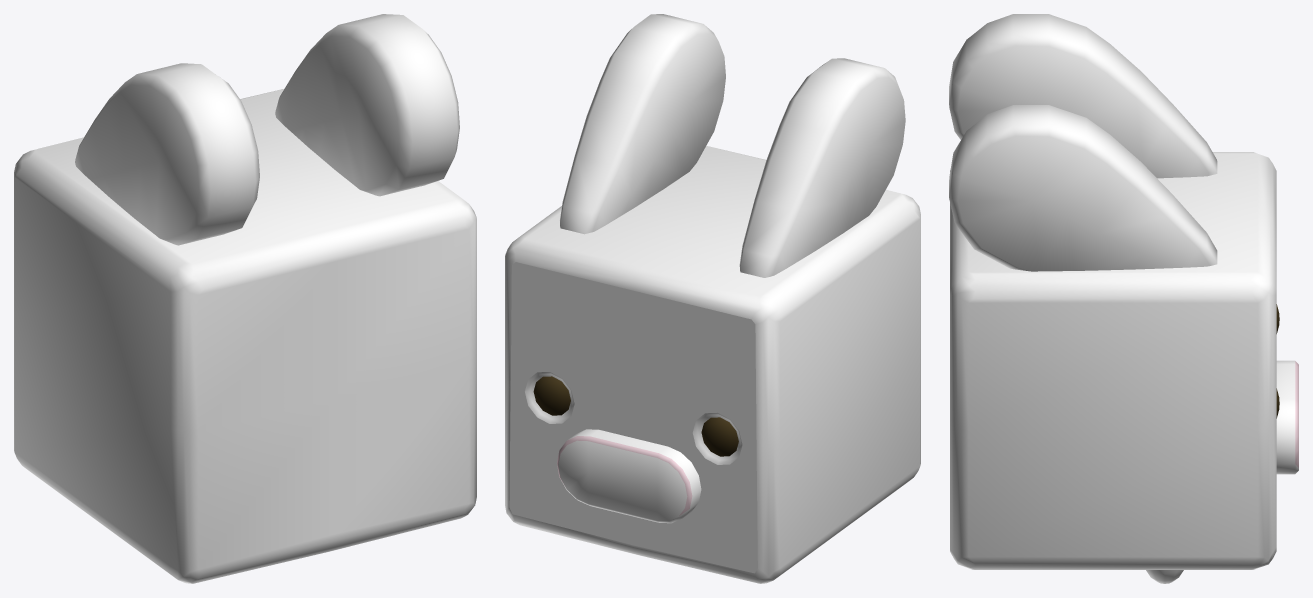
File: Cubimal_Firefly.fbx
The picture shows the model from 3 angles, left to right: view 1: azimuth 30°, elevation 25°; view 2: azimuth 150°, elevation 25°; view 3: azimuth 270°, elevation 25°; orthographic projection. The views are drawn at different scales.
Visible parts, largest first — view 1: Body, Wing_Left, Wing_Right; view 2: Body, Wing_Right, Wing_Left; view 3: Body, Wing_Right, Wing_Left.
Boxes of the visible parts, <box> form: Body: <box>14,88,476,583</box>; Wing_Left: <box>75,63,259,245</box>; Wing_Right: <box>275,14,459,196</box>; Body: <box>505,146,920,583</box>; Wing_Right: <box>560,14,725,234</box>; Wing_Left: <box>739,58,905,277</box>; Body: <box>950,152,1298,569</box>; Wing_Right: <box>949,105,1217,271</box>; Wing_Left: <box>949,14,1217,178</box>.
Size of the model in its own units: 20.09 by 32.39 by 21.52.
